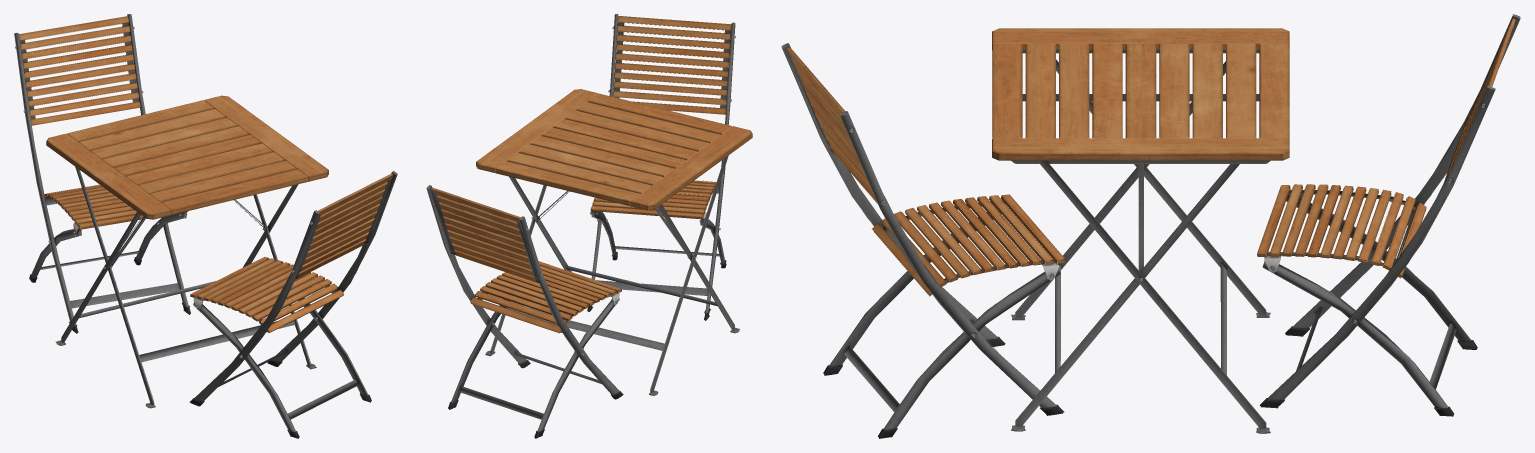
Rendered from cafe_set.glb.
3 renders of one model, left to right at view 1: azimuth 30°, elevation 25°; view 2: azimuth 150°, elevation 25°; view 3: azimuth 270°, elevation 25°, orthographic. The views are drawn at different scales.
Parts seen in each view (by area): view 1: cafe_set; view 2: cafe_set; view 3: cafe_set.
Boxes of the visible parts, bbox=[...] form: cafe_set: bbox=[14, 14, 397, 438]; cafe_set: bbox=[426, 14, 752, 438]; cafe_set: bbox=[781, 14, 1520, 438].
Bounding box in the file's own units: 0.742 × 0.8586 × 1.72.
2 materials, 2 textured.
